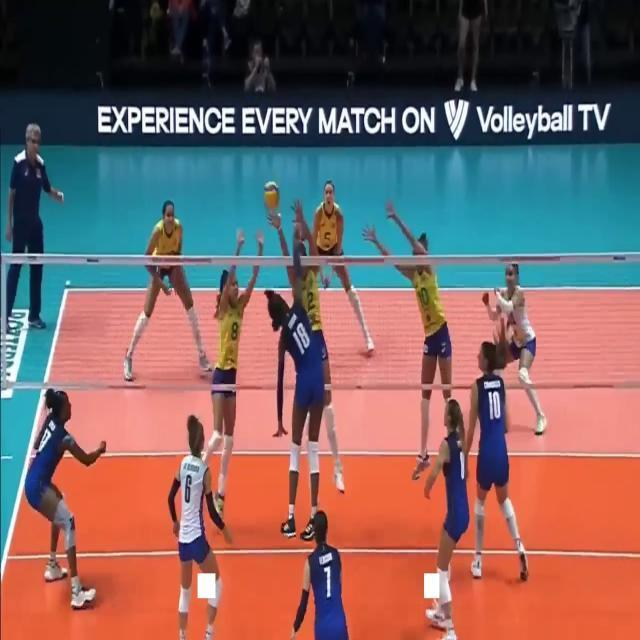volleyball: (264, 182, 280, 210)
